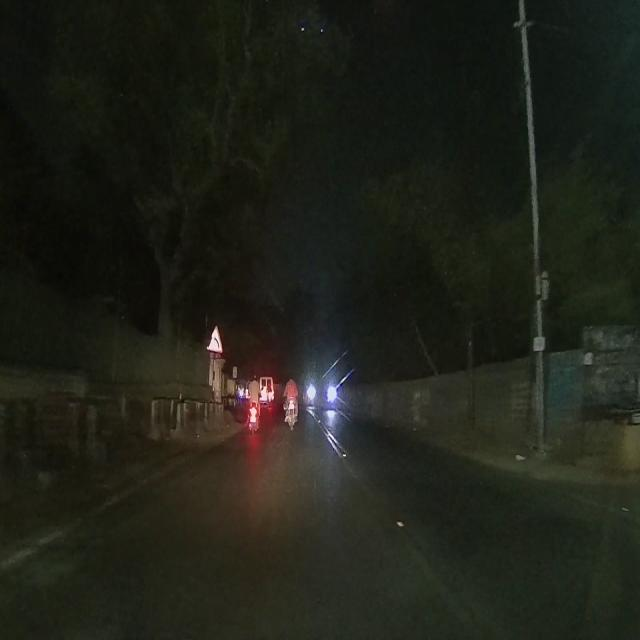left-hand-curve: (208, 324, 222, 354)
